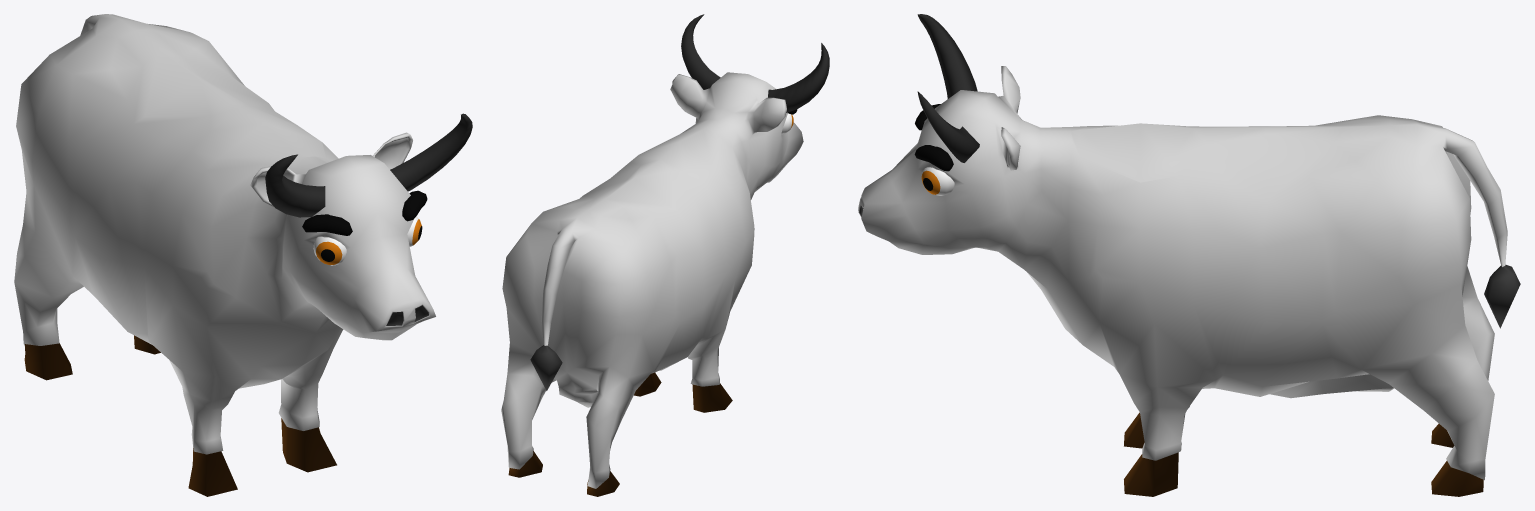
File: Bull.fbx
The picture shows the model from 3 angles, left to right: view 1: azimuth 30°, elevation 25°; view 2: azimuth 150°, elevation 25°; view 3: azimuth 270°, elevation 25°; orthographic projection. The views are drawn at different scales.
Parts seen in each view (by area): view 1: Bull; view 2: Bull; view 3: Bull.
Part boxes in pixels (bbox=[...]): Bull: bbox=[14, 14, 472, 496]; Bull: bbox=[501, 14, 829, 496]; Bull: bbox=[858, 14, 1520, 496].
Bounding box in the file's own units: 152 × 307 × 447.
1 material, 1 textured.
